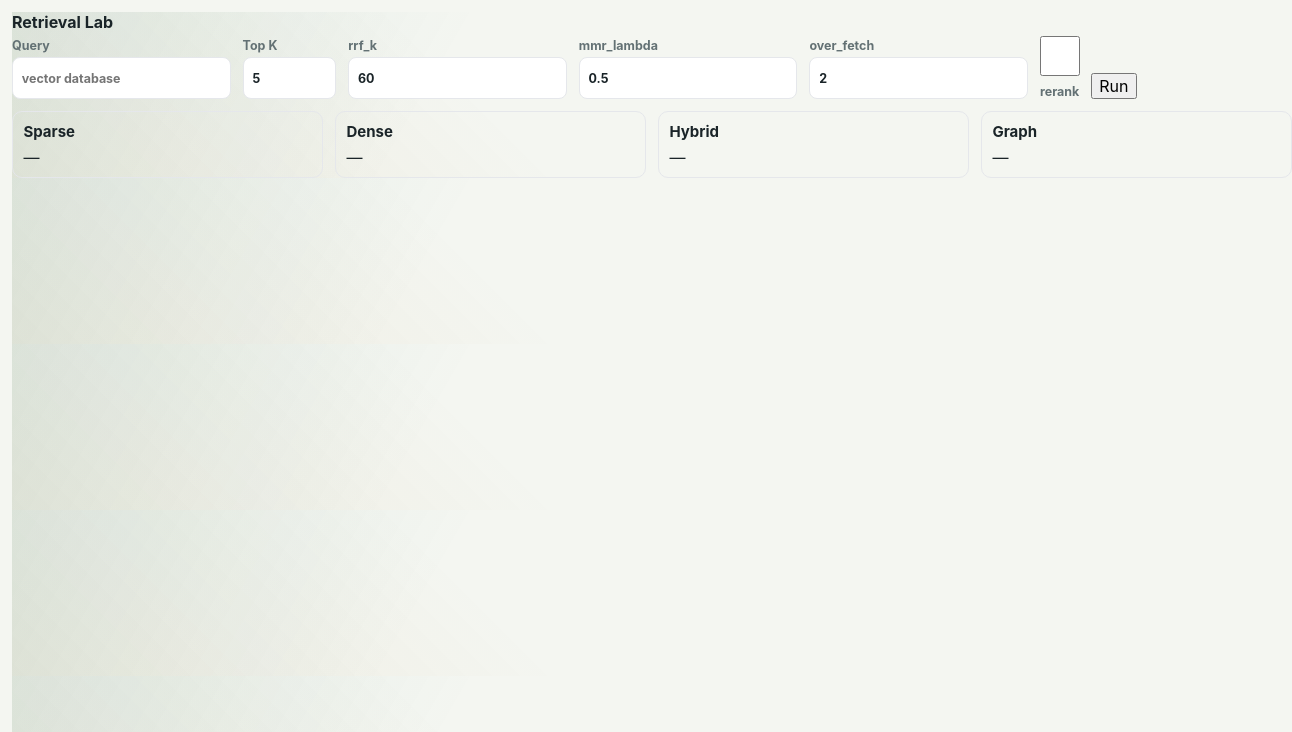
Test: RetrievalLab › shows an endpoint-not-available message on 404
Type "q" into the field labelled "Query" at (121, 78), box [12, 57, 231, 99]
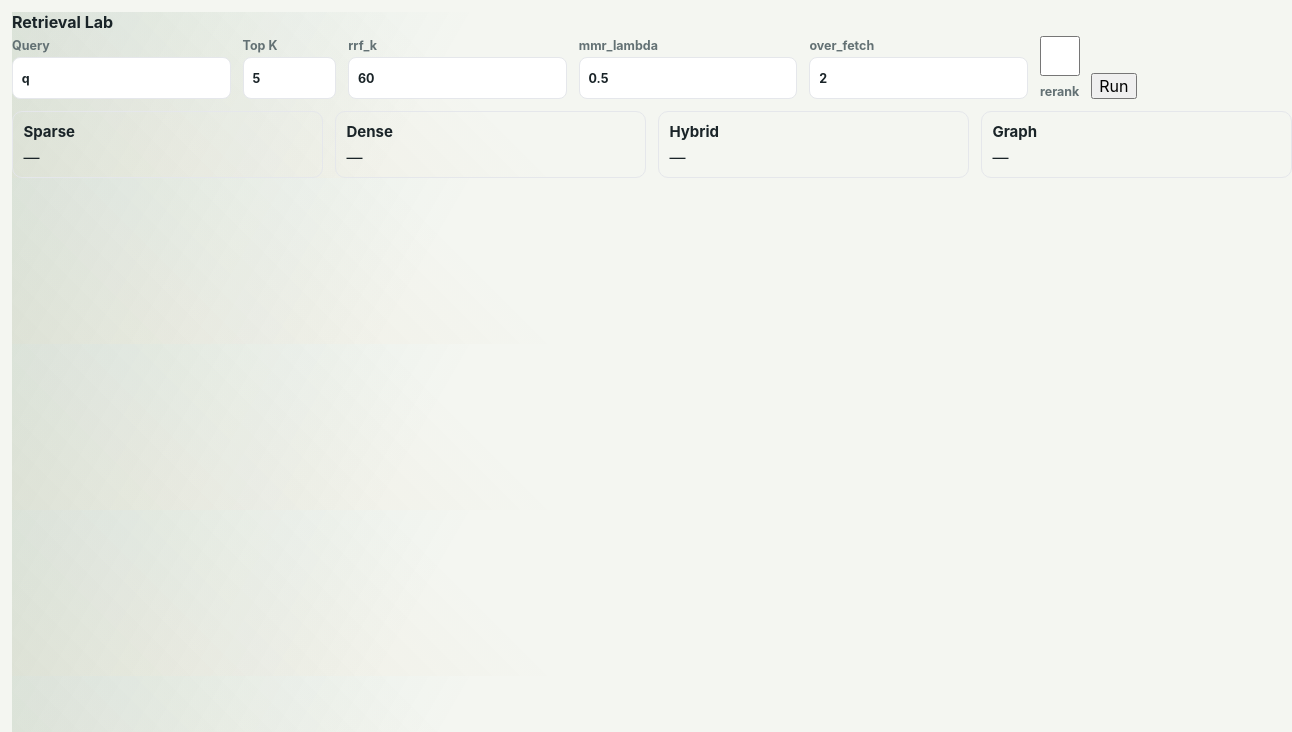
Click the button "Run" at (1114, 86), box [1091, 73, 1136, 99]
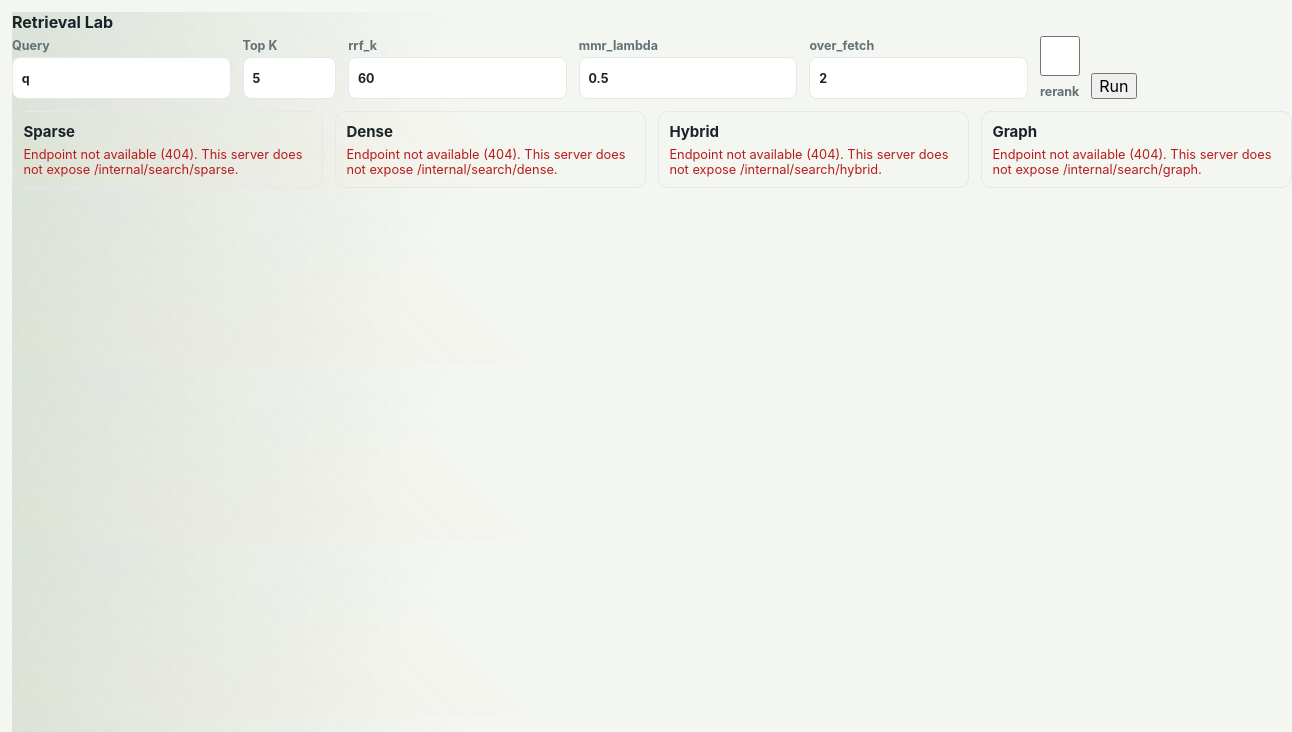
Expected: the text "Endpoint not available" is shown, [23, 147, 302, 177]
